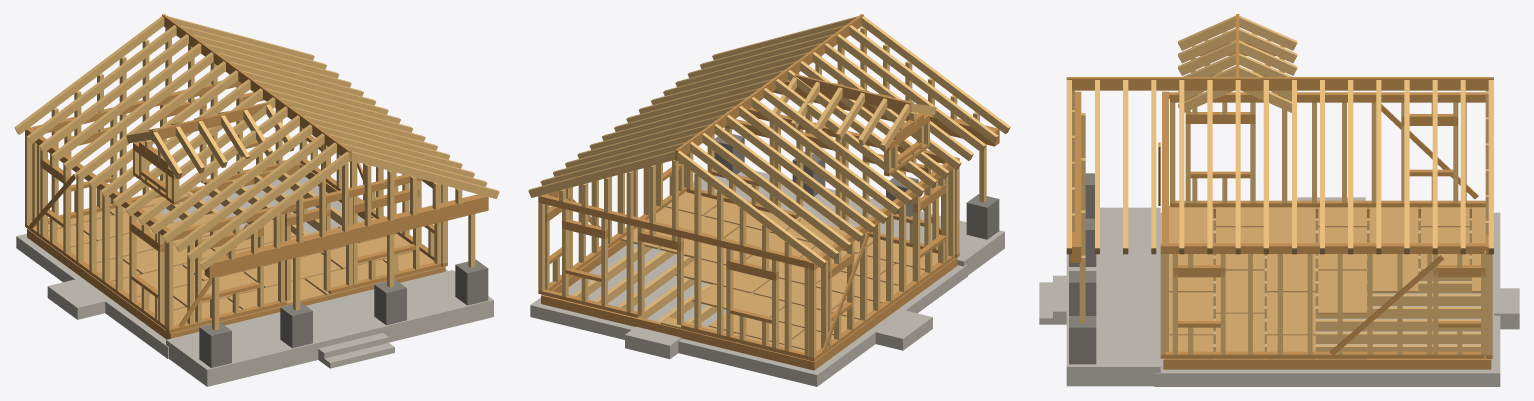
Rendered from base-04-framing.glb.
3 renders of one model, left to right at view 1: azimuth 30°, elevation 25°; view 2: azimuth 150°, elevation 25°; view 3: azimuth 270°, elevation 25°, orthographic. The views are drawn at different scales.
Parts seen in each view (by area): view 1: base_house_4_framing; view 2: base_house_4_framing; view 3: base_house_4_framing.
Boxes of the visible parts, left/top/right/bottom form: base_house_4_framing: left=14, top=14, right=499, bottom=386; base_house_4_framing: left=528, top=14, right=1010, bottom=386; base_house_4_framing: left=1039, top=14, right=1519, bottom=386.
Bounding box in the file's own units: 9.9 × 5.91 × 11.24.
